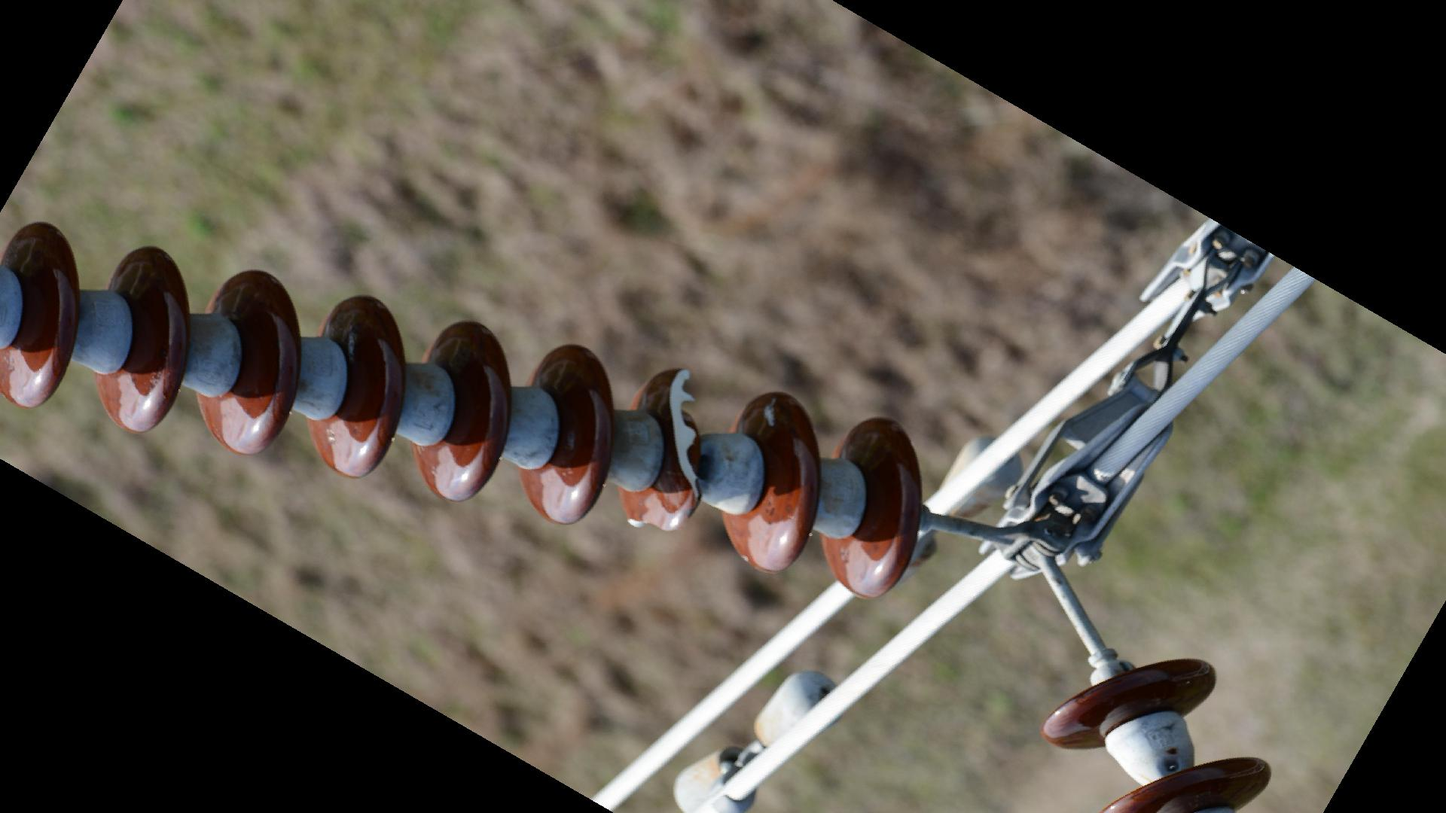insulator: (1, 214, 929, 606), (1037, 650, 1277, 813)
insulator_breakage: (660, 363, 709, 498), (620, 506, 681, 538)
